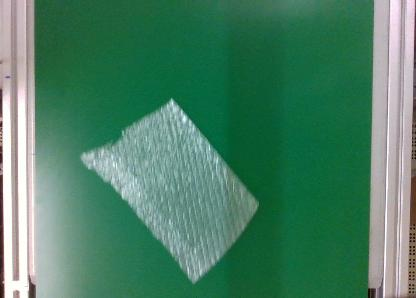Others: (80, 102, 260, 284)
